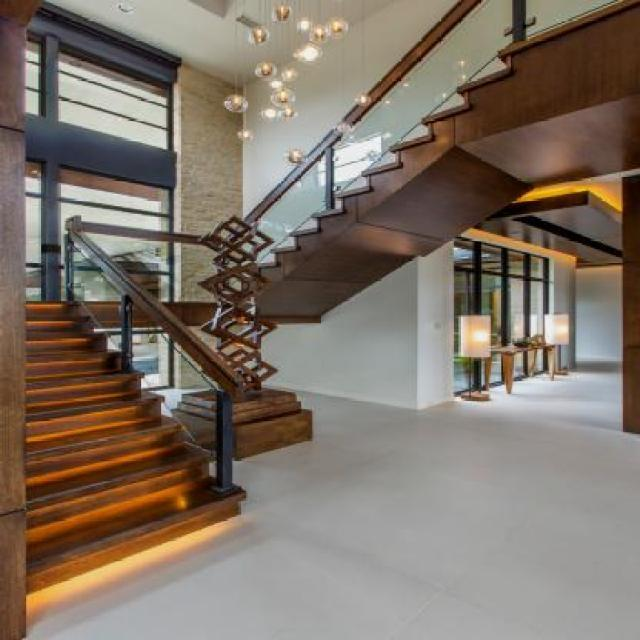stair: (28, 278, 362, 538)
